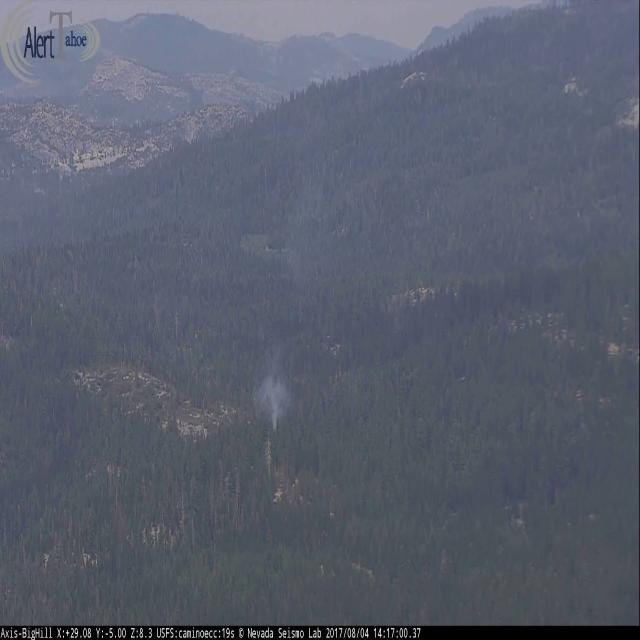smoke: (253, 356, 296, 438)
